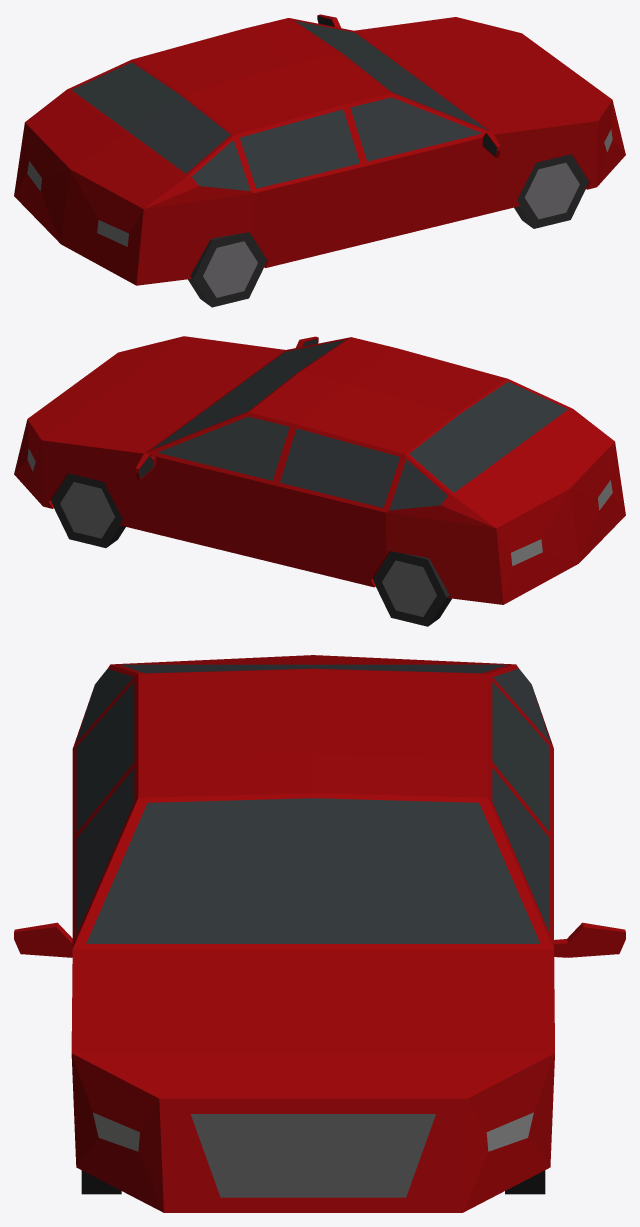
File: MobilSedan2.fbx
3 views of the same model, one above another, from view 1: azimuth 30°, elevation 25°; view 2: azimuth 150°, elevation 25°; view 3: azimuth 270°, elevation 25° (orthographic). The views are drawn at different scales.
Parts seen in each view (by area): view 1: Cube.011; view 2: Cube.011; view 3: Cube.011.
Part boxes in pixels (<box>): Cube.011: <box>14,14,625,307</box>; Cube.011: <box>14,336,625,626</box>; Cube.011: <box>14,655,625,1212</box>.
Size of the model in its own units: 713 by 205 by 427.
